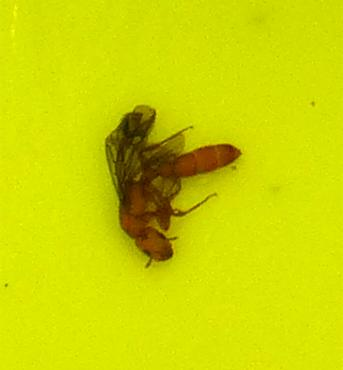Hymenoptera: (100, 100, 243, 270)
